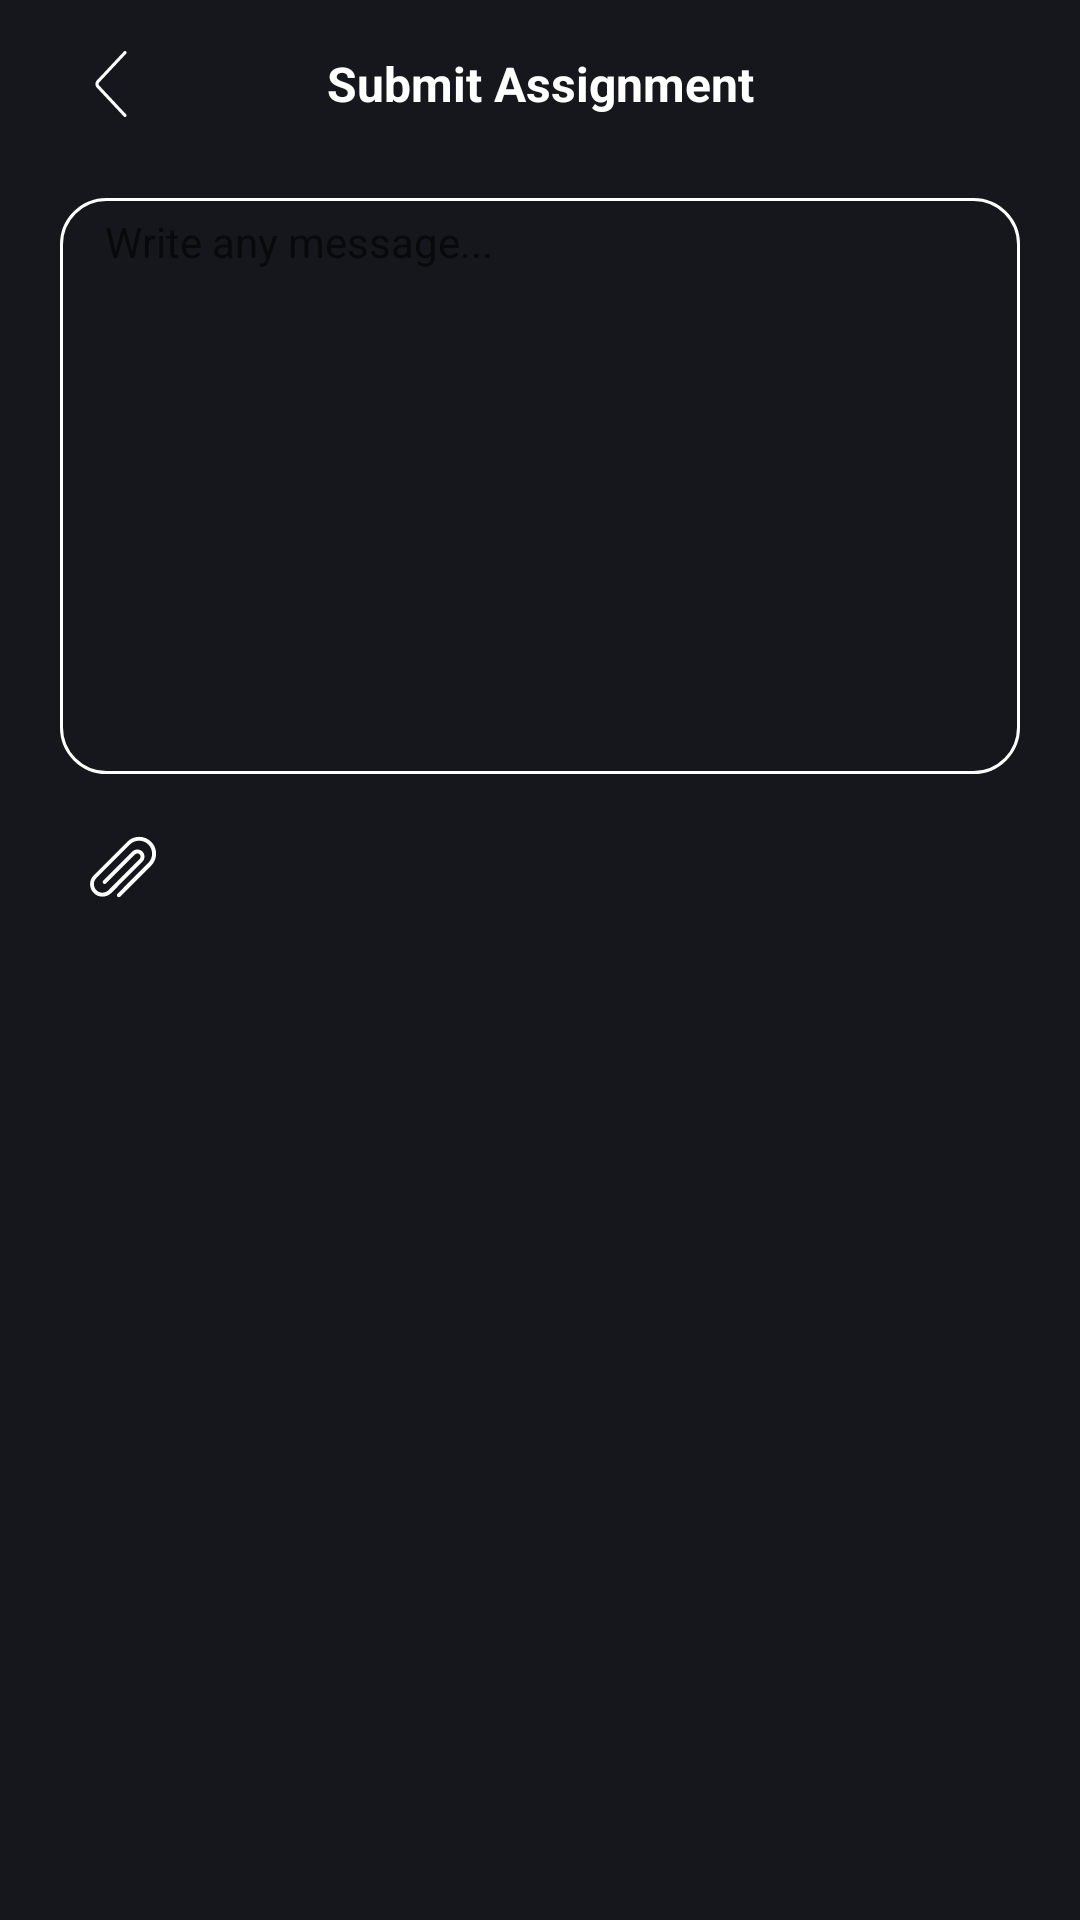

Named icons in this screenshot (1080px×1920px) and their centers, [x,y]:
attachment: [123,867]
back: [111,84]
